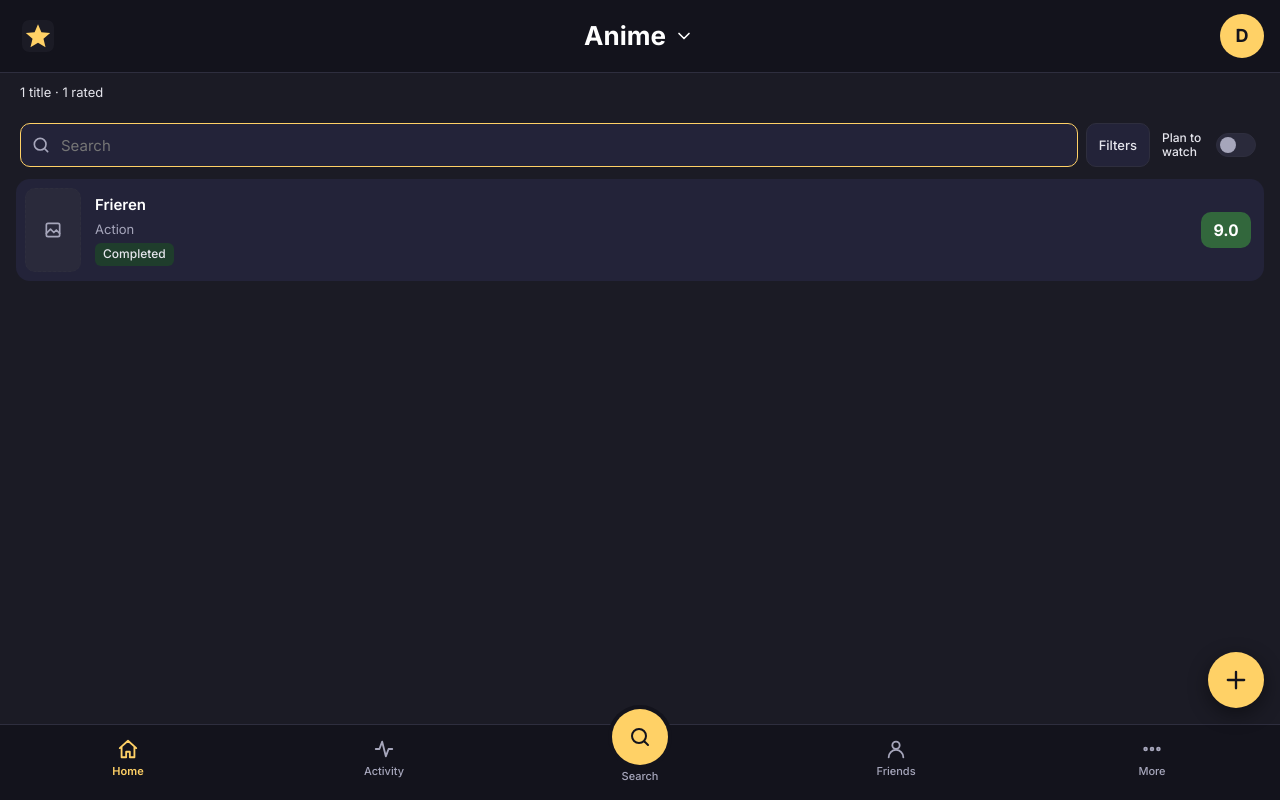
Test case: Plan to watch view › shows an empty state when nothing is planned
Expected: the text "Frieren" is shown, top-left (95, 194), bottom-right (146, 215)
What coordinates should you click on to do the following:
click the switch labelled "Plan to watch"
I would click on:
 (1209, 145)
Its box is top-left (1158, 123), bottom-right (1260, 167).
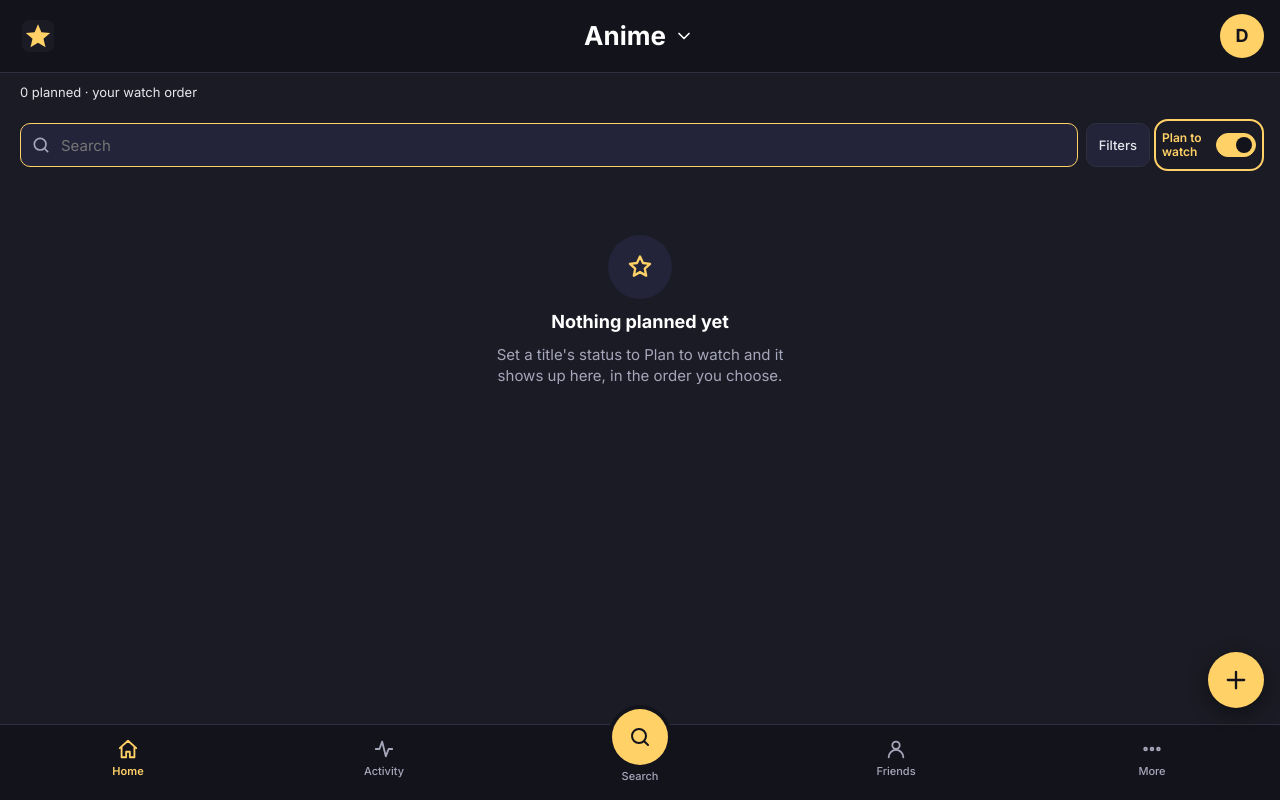
Now the heading "Nothing planned yet" is shown, box top-left (551, 309), bottom-right (729, 334)
